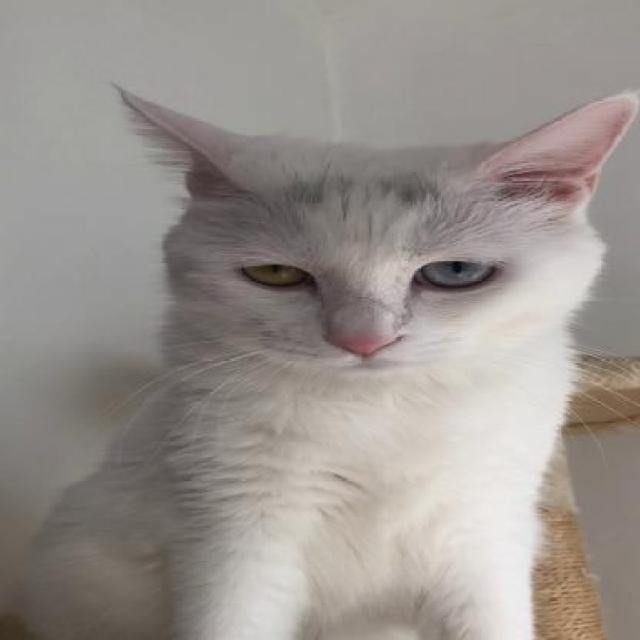cat-face: (130, 138, 622, 379)
